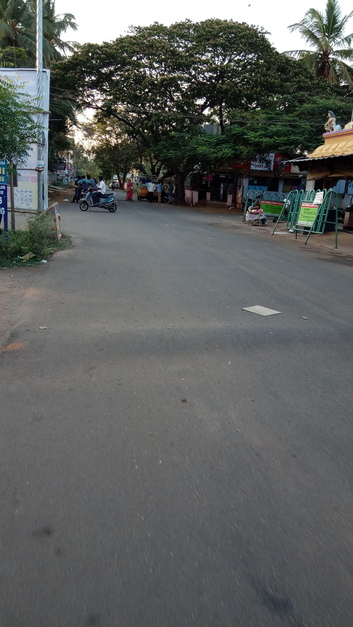bump: (1, 323, 353, 375)
